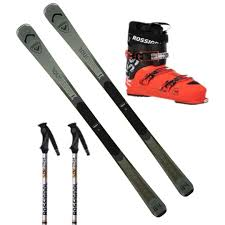skis: (15, 2, 194, 219)
